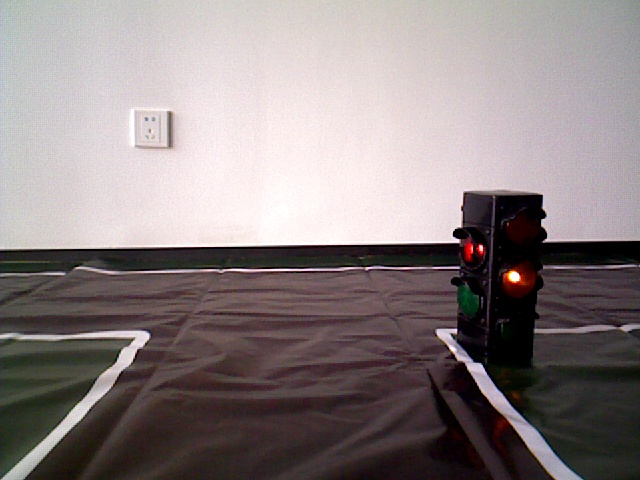yellow: (459, 191, 541, 368)
